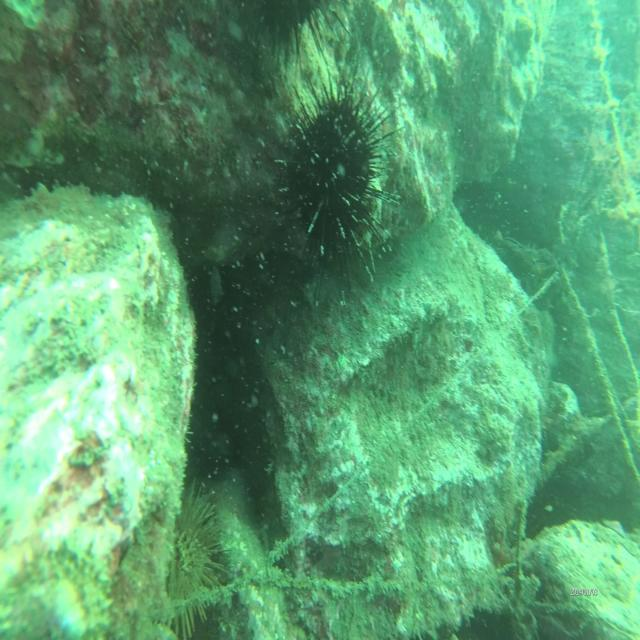echinus: (280, 88, 388, 274), (169, 486, 221, 624), (245, 0, 334, 51)
